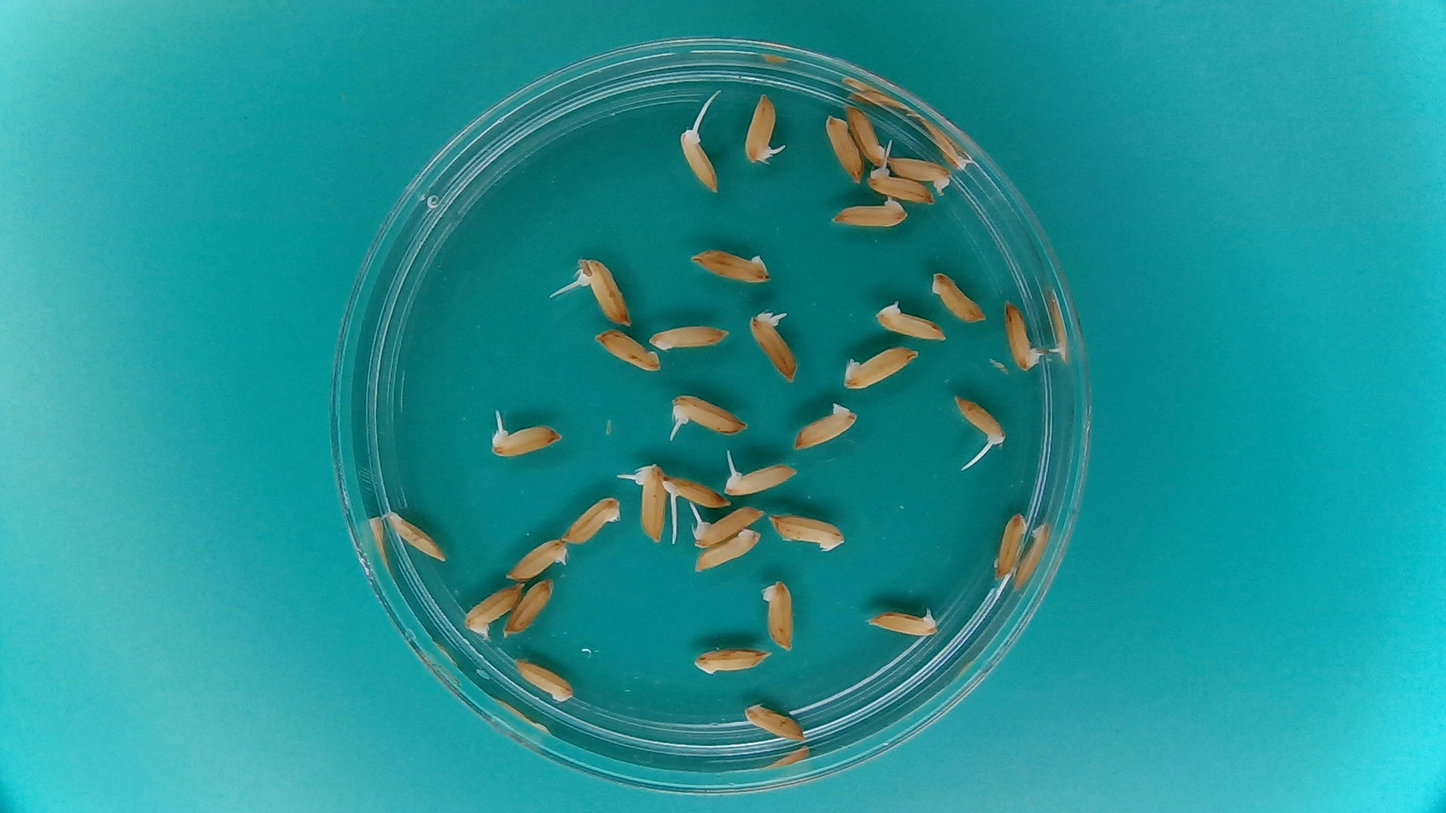no: (460, 577, 528, 640), (839, 343, 923, 392), (383, 507, 450, 565), (685, 243, 774, 286), (790, 399, 862, 451), (765, 509, 848, 554), (1000, 297, 1045, 376), (871, 297, 948, 343), (502, 574, 556, 639), (560, 492, 623, 546), (511, 654, 577, 705), (929, 270, 989, 324), (691, 529, 763, 574), (592, 327, 662, 373), (822, 107, 865, 181), (647, 319, 734, 355), (845, 104, 893, 169), (502, 535, 571, 580), (759, 574, 798, 653), (828, 194, 913, 230), (740, 700, 807, 744), (992, 507, 1030, 583), (689, 647, 773, 675)
yes: (570, 255, 630, 324), (748, 310, 801, 385), (689, 502, 767, 546), (742, 91, 783, 168), (950, 392, 1007, 447), (668, 394, 746, 434), (721, 456, 795, 498), (675, 129, 719, 199), (633, 464, 670, 545), (863, 603, 941, 641), (493, 416, 560, 460), (660, 473, 731, 508), (864, 168, 931, 205), (889, 154, 954, 192)
